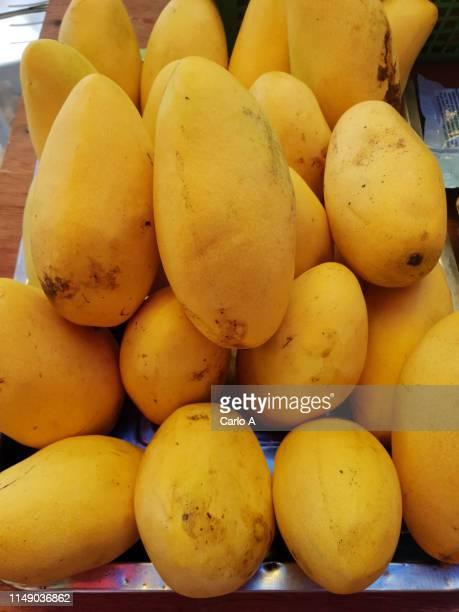xoai: (152, 56, 296, 351), (25, 72, 155, 328), (325, 100, 448, 290)
